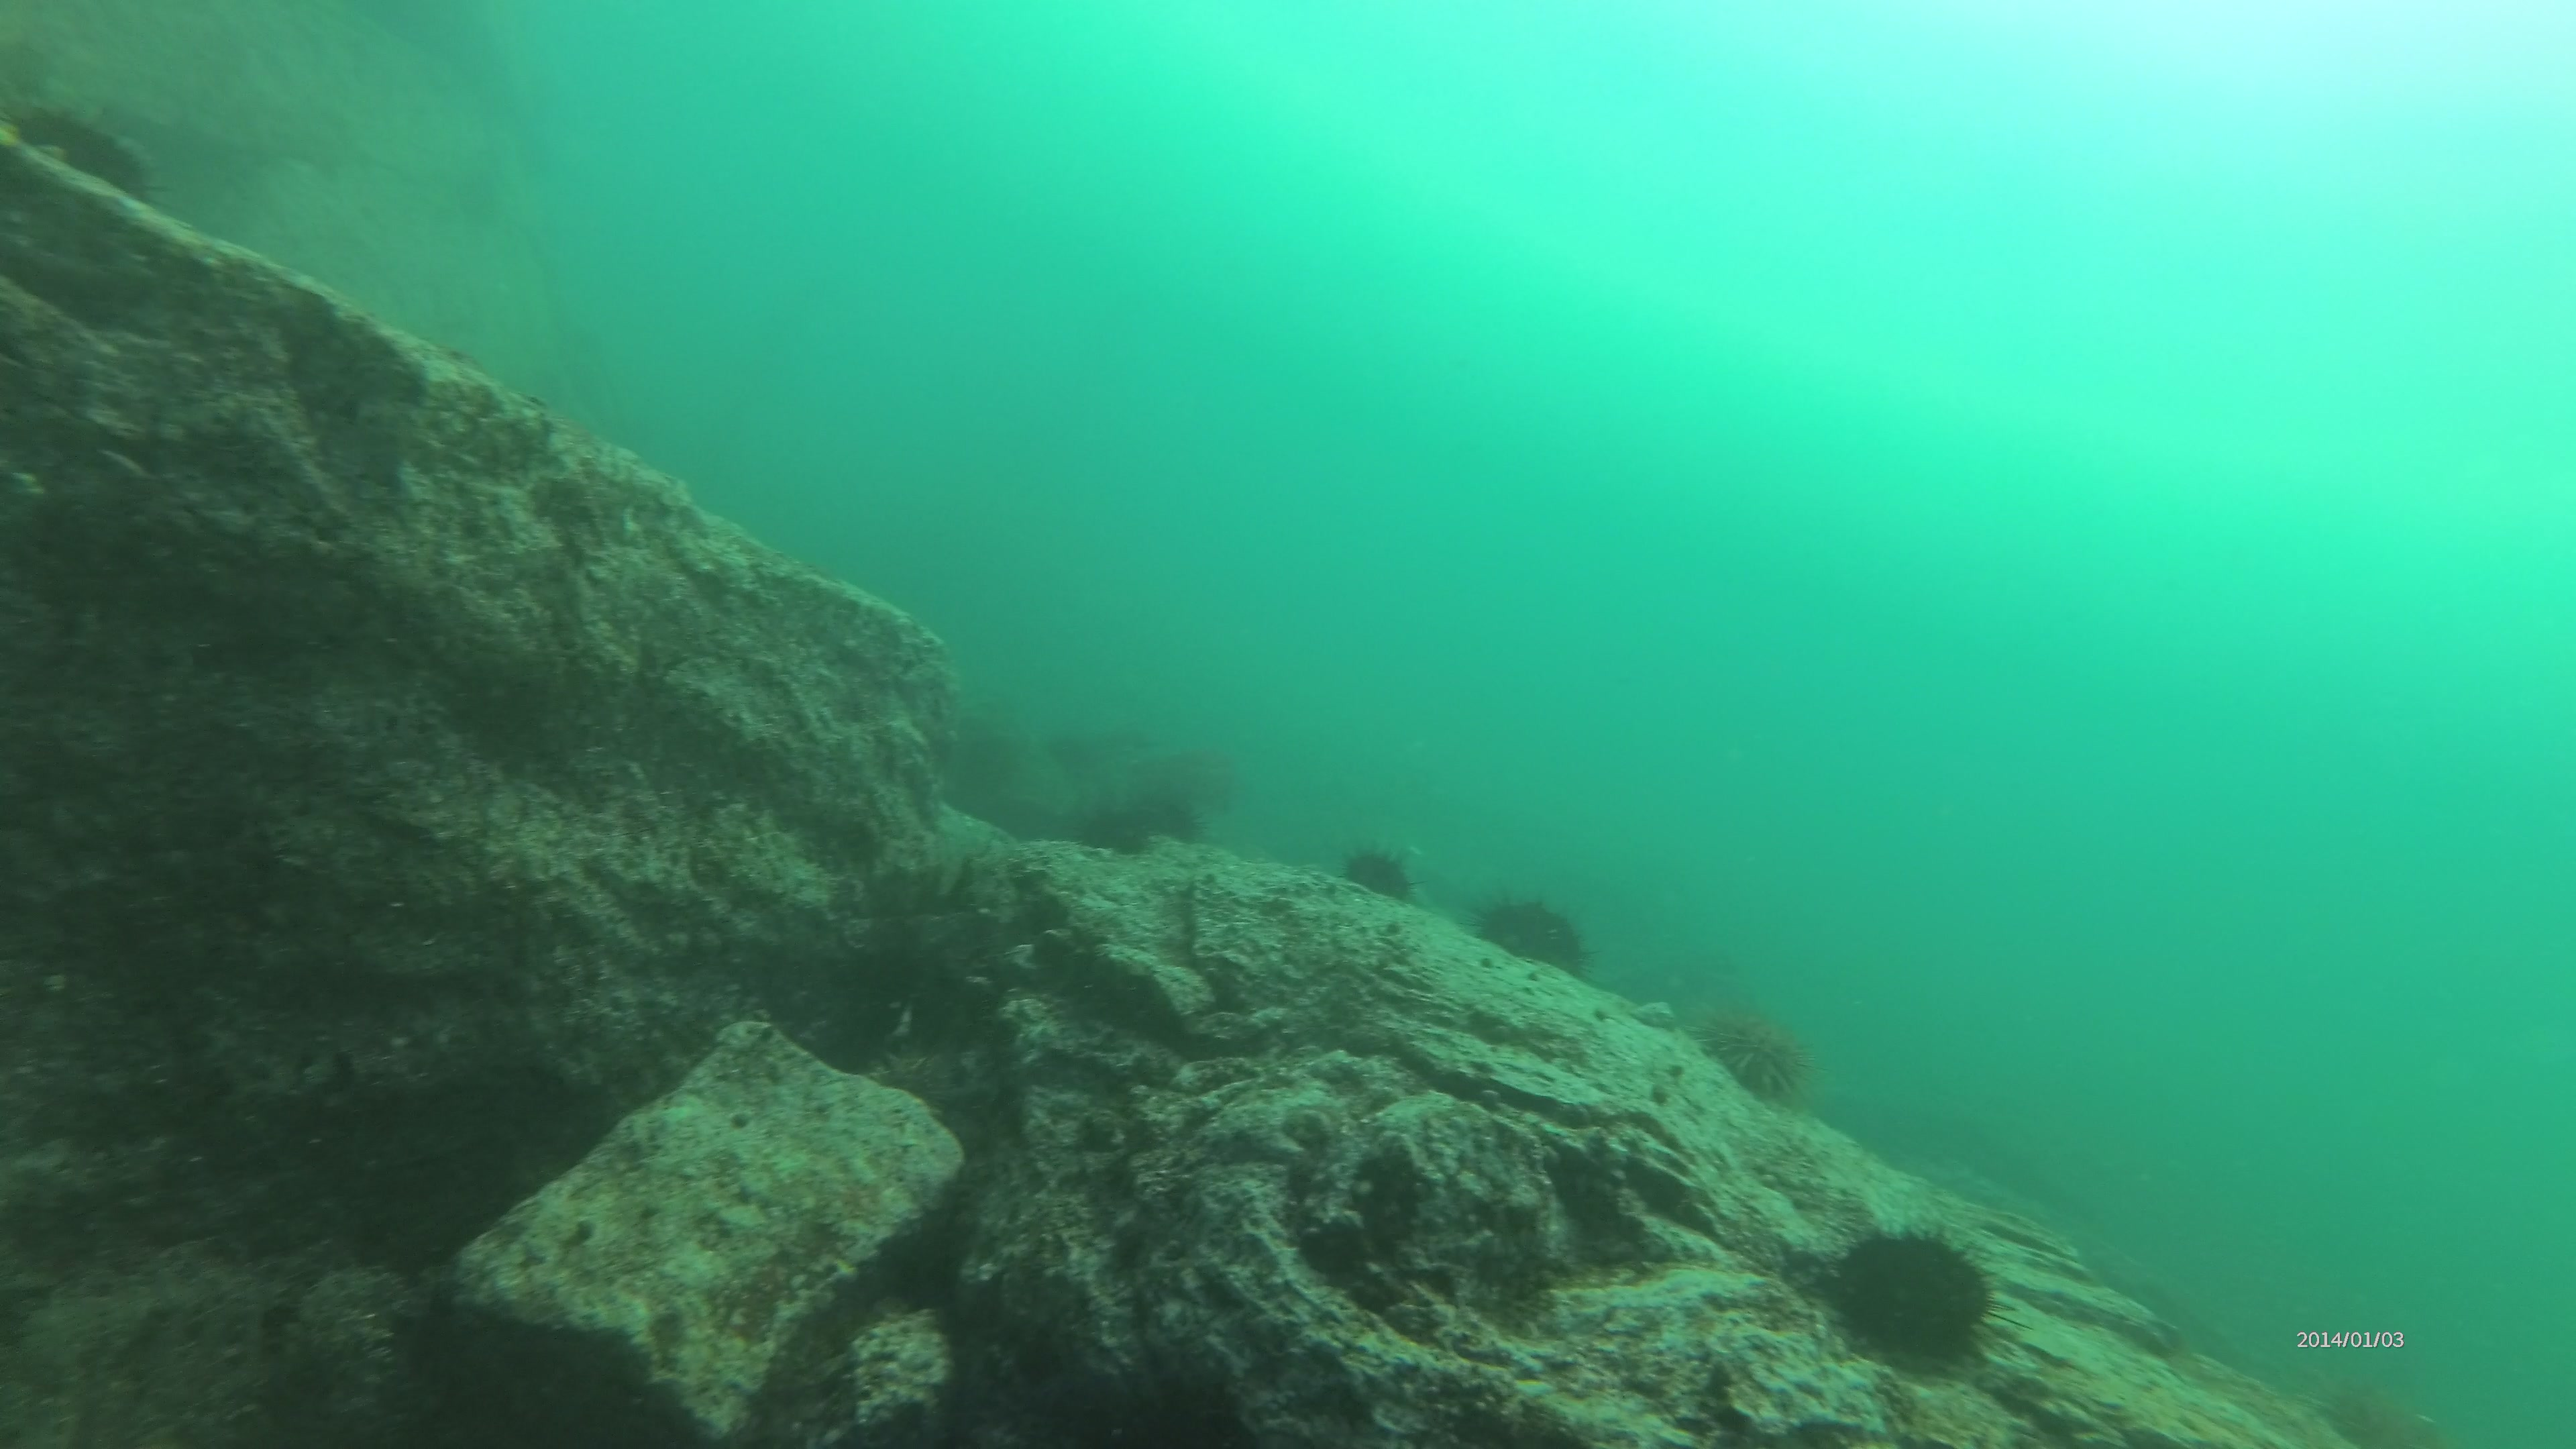echinus: (1833, 1215, 1990, 1359), (1472, 885, 1596, 985), (1698, 994, 1805, 1093), (1345, 844, 1415, 908), (1132, 782, 1201, 846), (1086, 796, 1152, 860)
